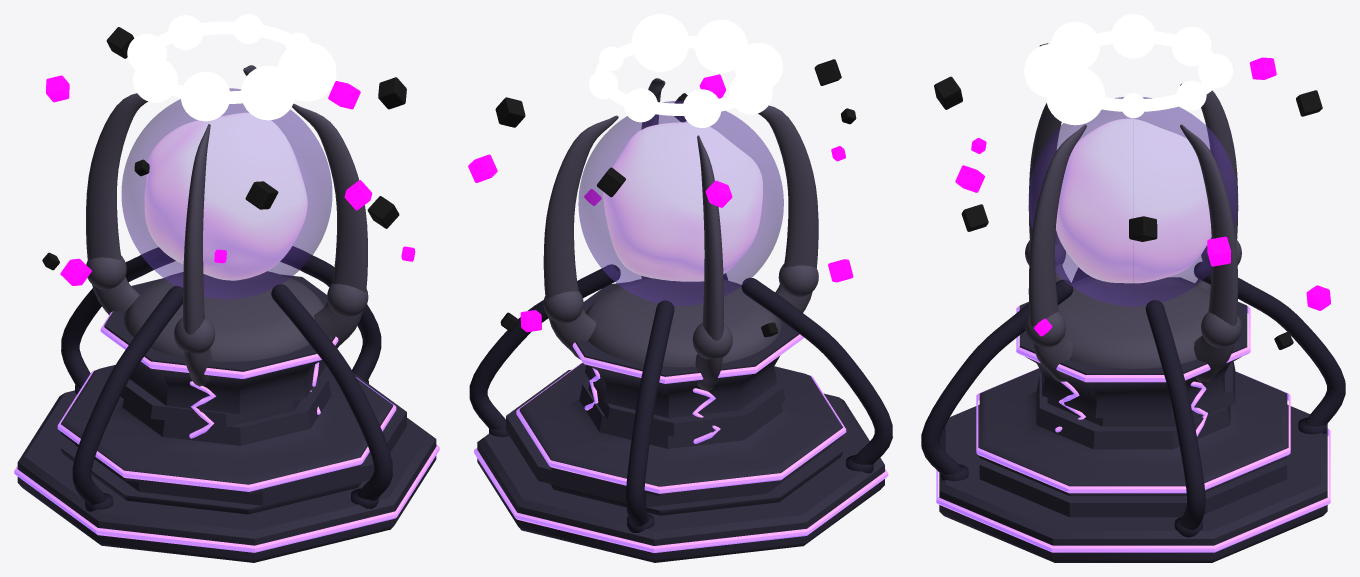
The model's file is LagzPortalCore.glb.
3 renders of one model, left to right at view 1: azimuth 30°, elevation 25°; view 2: azimuth 150°, elevation 25°; view 3: azimuth 270°, elevation 25°, orthographic. The views are drawn at different scales.
Parts seen in each view (by area): view 1: Pedestal__SmoothPlastic__2D2A3E, Shell__Glass__6B46C1, Claws__Metal__4A4458, Core__Neon__B794F4, Cables__SmoothPlastic__1E1B2E, Ring__Neon__E9D8FD__Spin, Trim__Neon__8B5CF6, Shards__SmoothPlastic__141414, ShardsGlow__Neon__FF00FF; view 2: Pedestal__SmoothPlastic__2D2A3E, Shell__Glass__6B46C1, Claws__Metal__4A4458, Core__Neon__B794F4, Cables__SmoothPlastic__1E1B2E, Ring__Neon__E9D8FD__Spin, Trim__Neon__8B5CF6, ShardsGlow__Neon__FF00FF, Shards__SmoothPlastic__141414; view 3: Pedestal__SmoothPlastic__2D2A3E, Shell__Glass__6B46C1, Claws__Metal__4A4458, Core__Neon__B794F4, Cables__SmoothPlastic__1E1B2E, Ring__Neon__E9D8FD__Spin, Trim__Neon__8B5CF6, Shards__SmoothPlastic__141414, ShardsGlow__Neon__FF00FF.
Part boxes in pixels (box(x1,y1,x2,y2)): Pedestal__SmoothPlastic__2D2A3E: box(17, 274, 436, 562); Shell__Glass__6B46C1: box(121, 88, 332, 299); Claws__Metal__4A4458: box(86, 65, 368, 386); Core__Neon__B794F4: box(144, 112, 307, 280); Cables__SmoothPlastic__1E1B2E: box(61, 246, 392, 511); Ring__Neon__E9D8FD__Spin: box(127, 14, 336, 121); Trim__Neon__8B5CF6: box(14, 311, 439, 552); Shards__SmoothPlastic__141414: box(42, 27, 406, 270); ShardsGlow__Neon__FF00FF: box(46, 75, 415, 285); Pedestal__SmoothPlastic__2D2A3E: box(477, 282, 884, 562); Shell__Glass__6B46C1: box(578, 100, 783, 305); Claws__Metal__4A4458: box(543, 78, 818, 390); Core__Neon__B794F4: box(603, 122, 762, 281); Cables__SmoothPlastic__1E1B2E: box(469, 264, 892, 532); Ring__Neon__E9D8FD__Spin: box(589, 14, 782, 127); Trim__Neon__8B5CF6: box(474, 334, 888, 552); ShardsGlow__Neon__FF00FF: box(468, 74, 853, 332); Shards__SmoothPlastic__141414: box(495, 59, 856, 337); Pedestal__SmoothPlastic__2D2A3E: box(939, 277, 1327, 562); Shell__Glass__6B46C1: box(1028, 97, 1238, 306); Claws__Metal__4A4458: box(1025, 83, 1241, 381); Core__Neon__B794F4: box(1056, 118, 1211, 283); Cables__SmoothPlastic__1E1B2E: box(921, 261, 1345, 537); Ring__Neon__E9D8FD__Spin: box(1024, 14, 1232, 125); Trim__Neon__8B5CF6: box(936, 306, 1330, 552); Shards__SmoothPlastic__141414: box(934, 43, 1322, 349); ShardsGlow__Neon__FF00FF: box(955, 57, 1330, 336).
Size of the model in its own units: 21.94 by 25 by 21.91.
